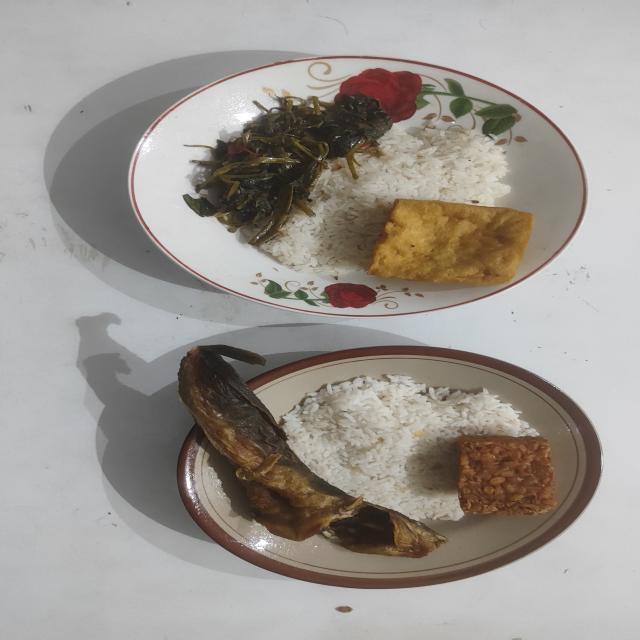nasi_putih: (280, 374, 540, 520), (264, 130, 510, 280)
tahu_goreng: (367, 199, 533, 285)
tempe_goreng: (457, 436, 556, 515)
tumis_kangkung: (184, 94, 392, 246)
